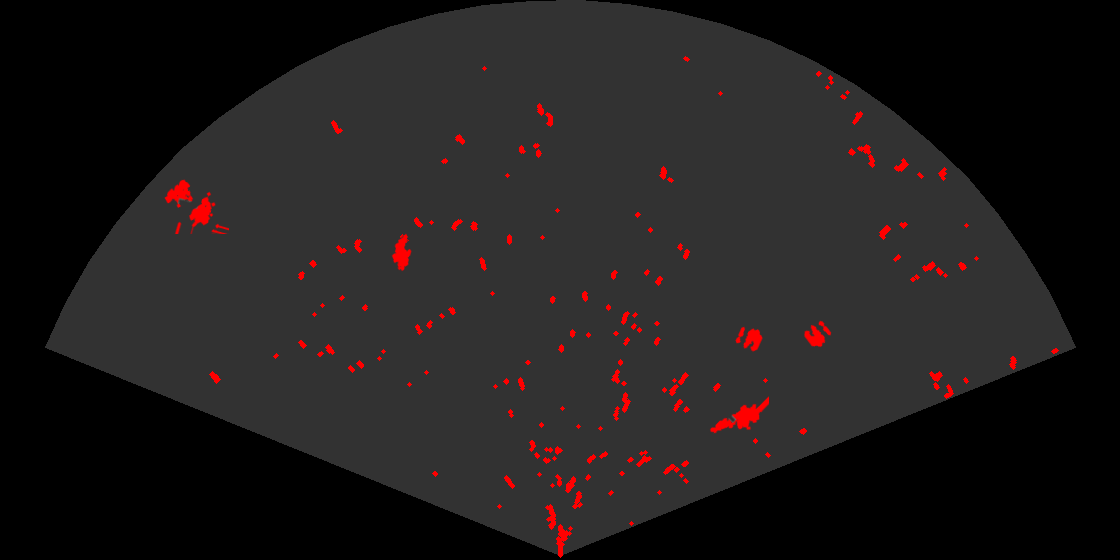AUV: (390, 232, 413, 273)
ball: (803, 319, 833, 349), (734, 325, 764, 354)
cage: (163, 178, 229, 234)
frogman: (708, 395, 769, 435)
